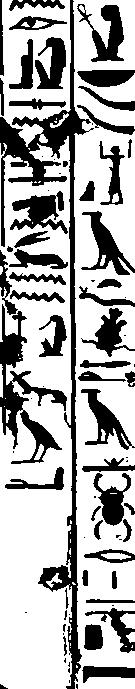Mouth: (84, 549, 135, 564)
Water: (10, 217, 69, 235), (9, 270, 67, 287), (9, 289, 67, 304), (7, 0, 66, 12)
